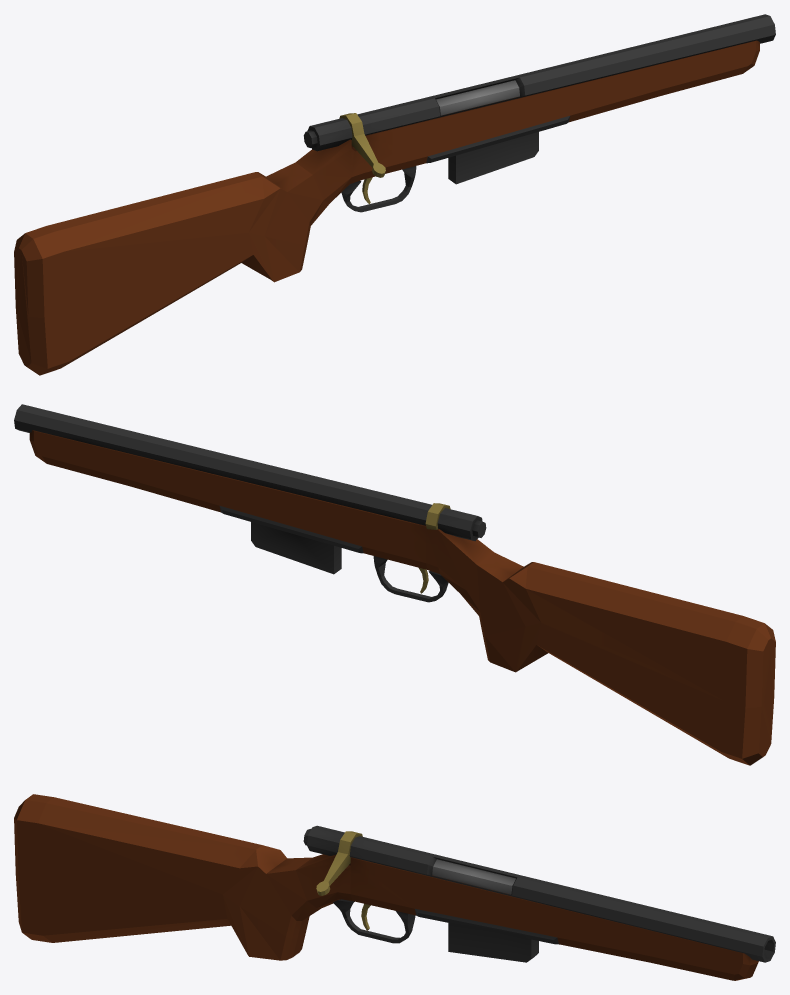
File: v-boltaction-rifles-b-short.glb
3 views of the same model, one above another, from view 1: azimuth 30°, elevation 25°; view 2: azimuth 150°, elevation 25°; view 3: azimuth 330°, elevation 25° (orthographic).
Parts seen in each view (by area): view 1: stock, front (×3), receiver (×3), grip; view 2: stock, front (×2), receiver (×2), grip; view 3: front (×3), stock, receiver (×3), grip.
Boxes of the visible parts, x1,y1,x2,y2 form: stock: (14, 187, 212, 375); front (×3): (423, 14, 775, 184); receiver (×3): (197, 98, 433, 283); grip: (221, 228, 281, 282); stock: (576, 577, 775, 765); front (×2): (14, 404, 364, 574); receiver (×2): (356, 488, 592, 673); grip: (508, 618, 568, 672); front (×3): (420, 853, 775, 980); stock: (14, 794, 203, 942); receiver (×3): (187, 825, 429, 960); grip: (202, 894, 258, 957).
Size of the model in its own units: 0.774 by 0.1792 by 0.0802.
